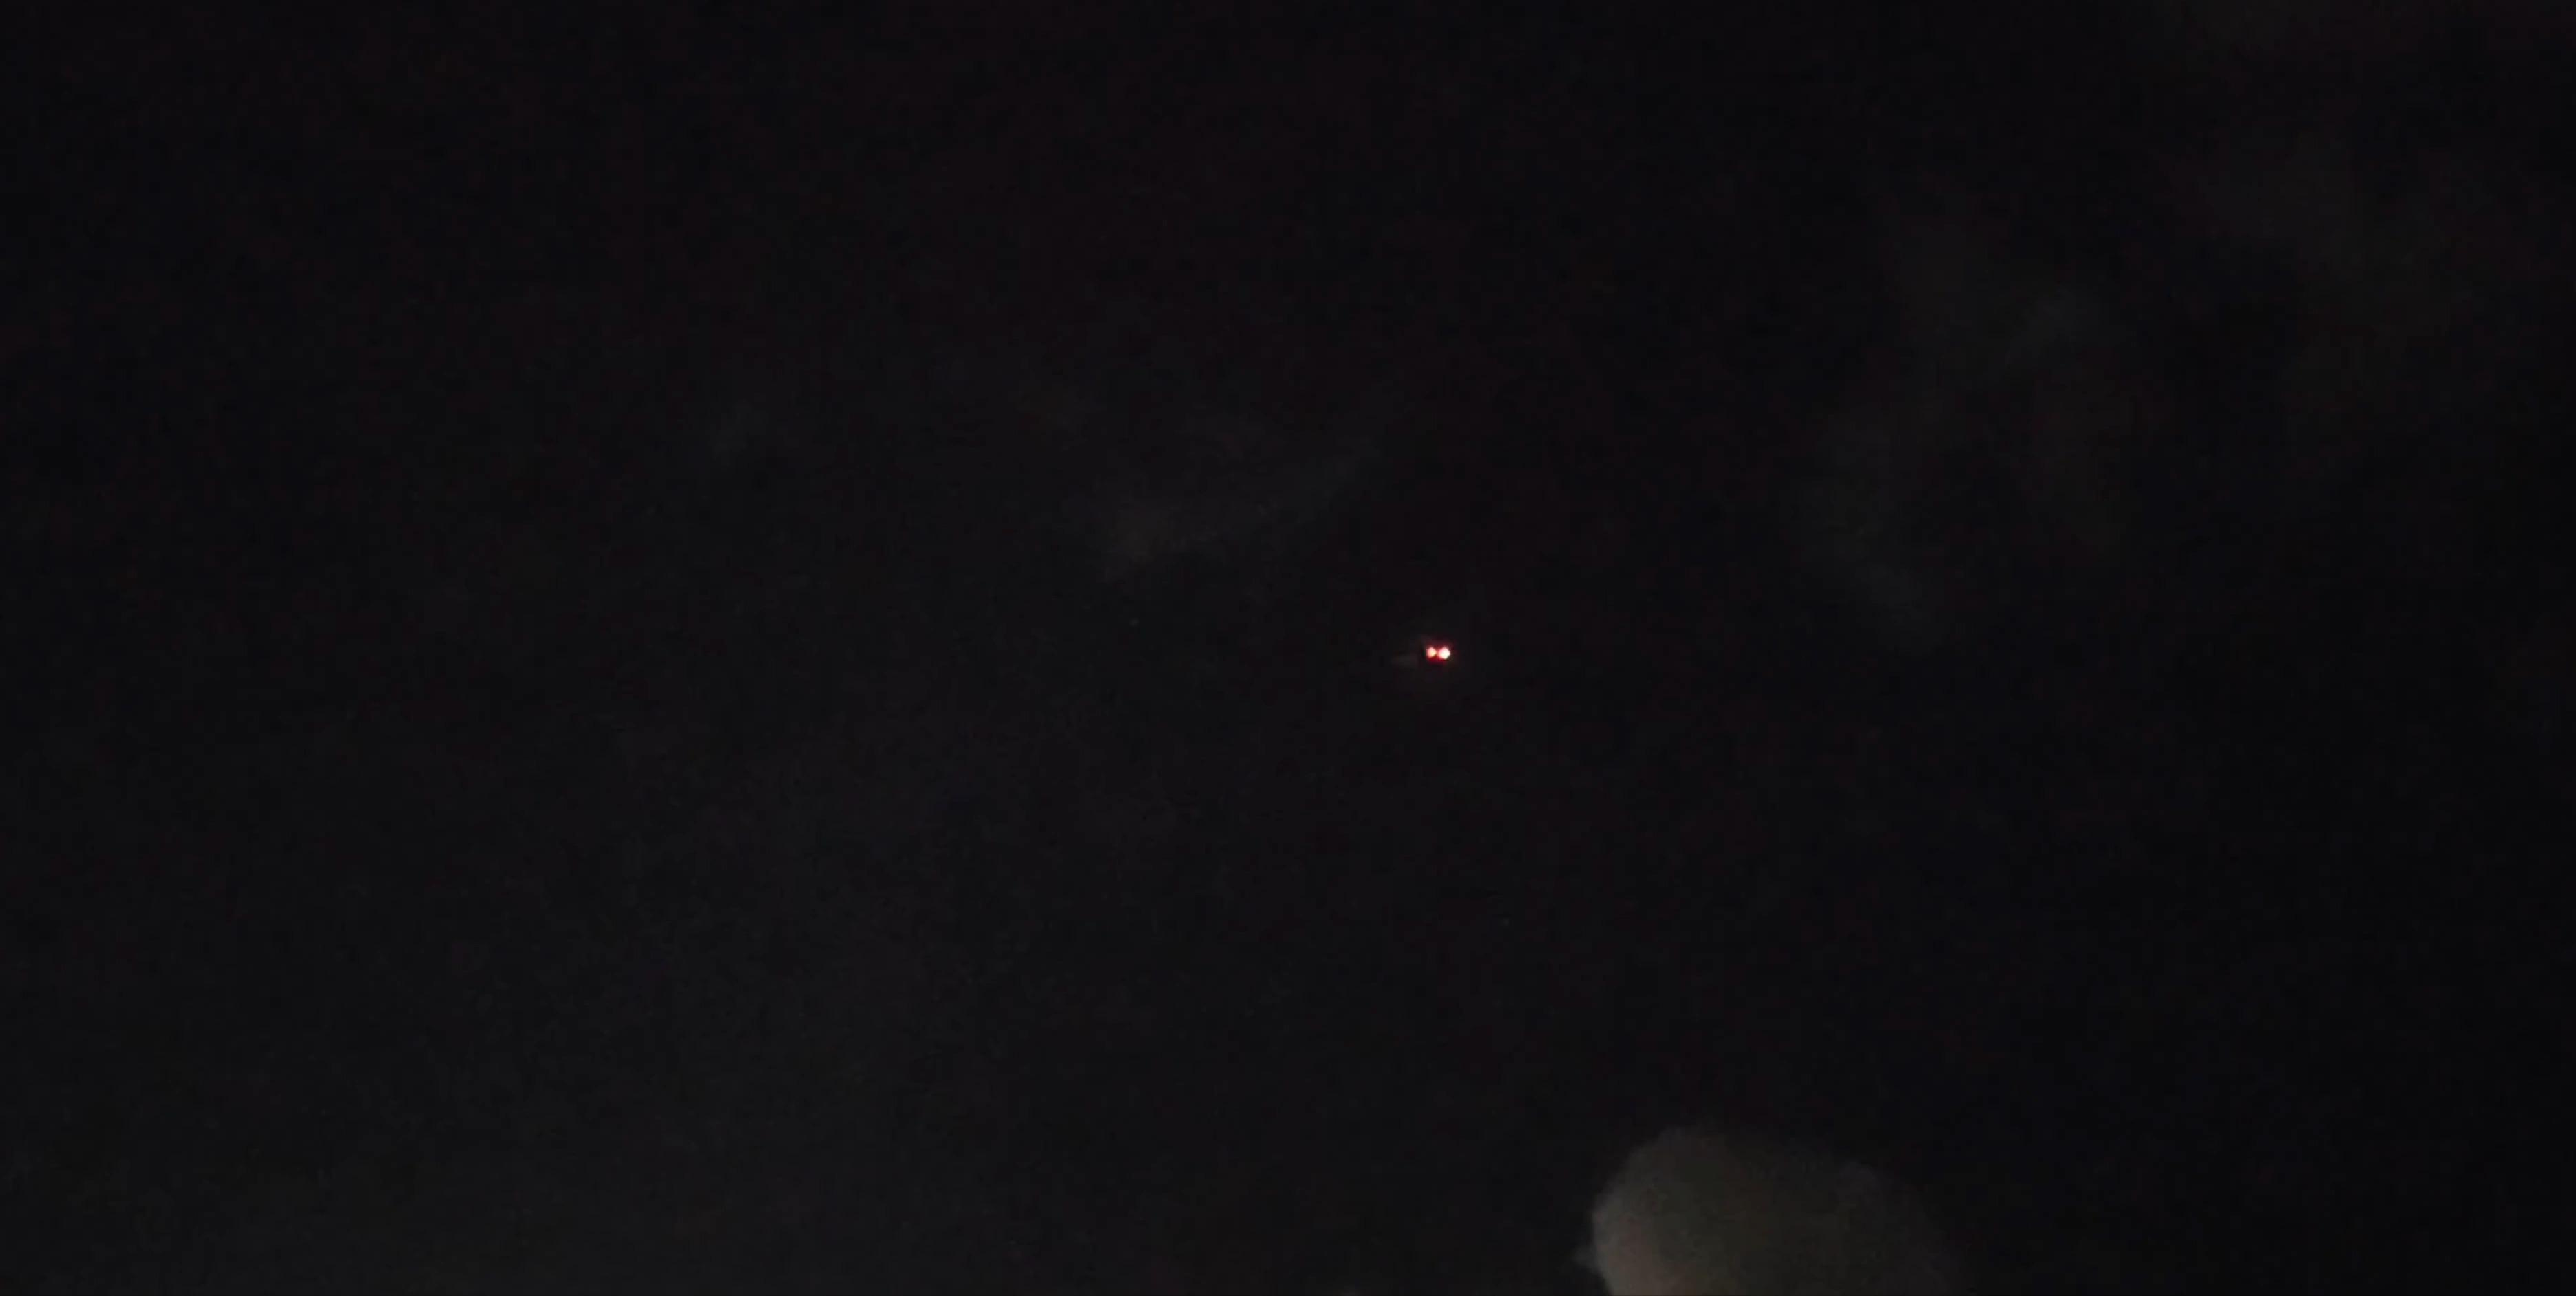Plane: (1358, 617, 1519, 689)
